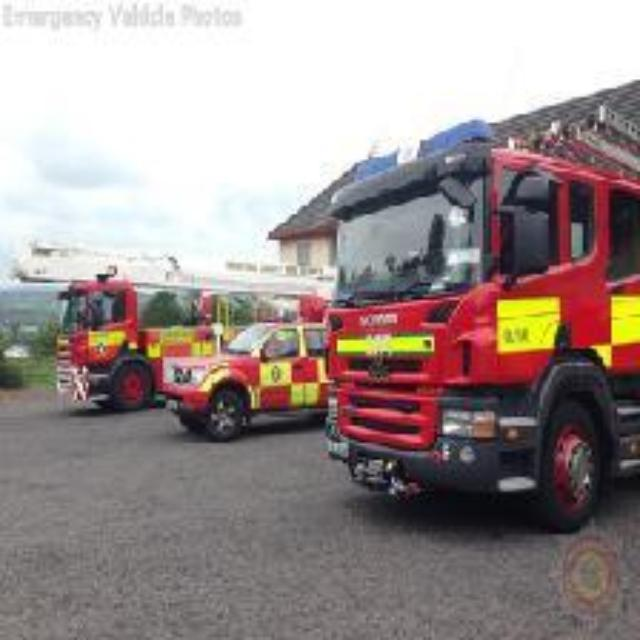emergency: (320, 145, 640, 527), (54, 260, 346, 412), (174, 312, 338, 428)
